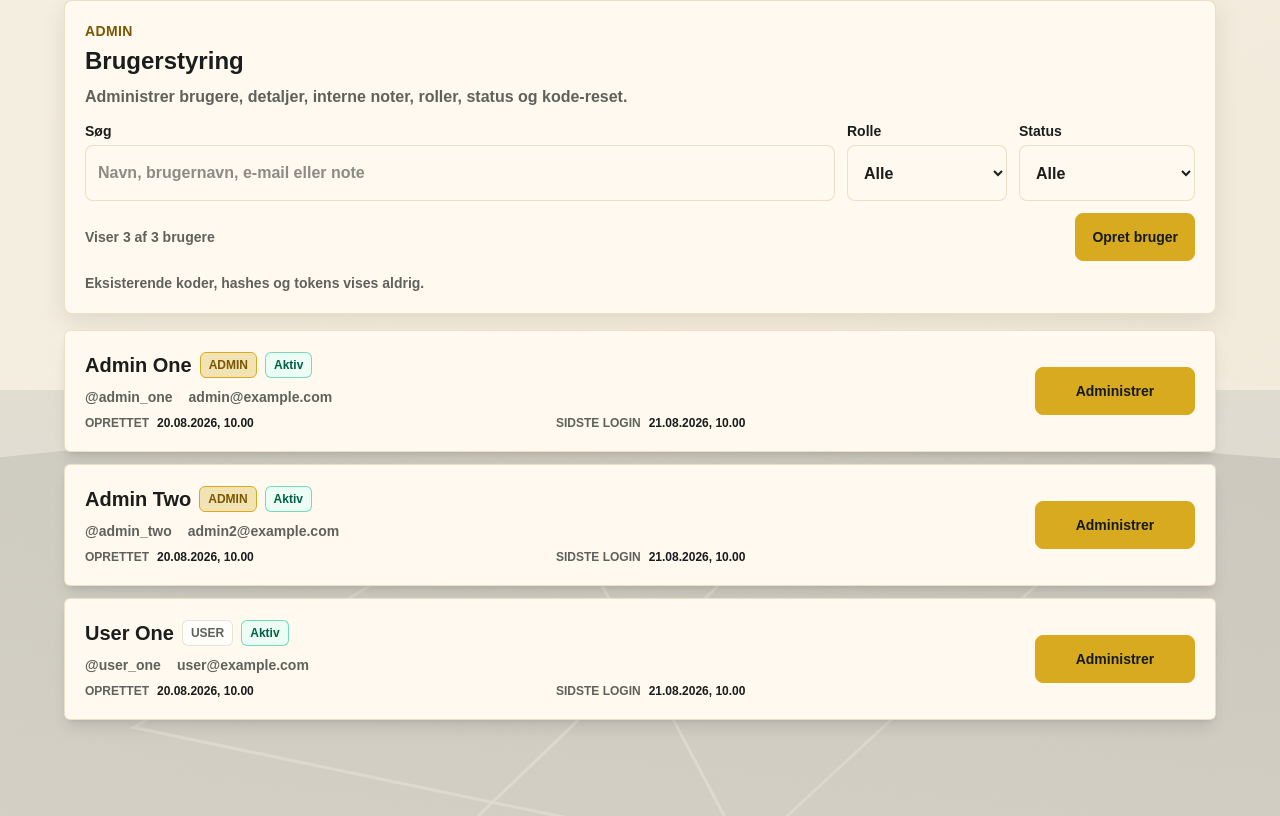
Scenario: STEP 25I-C1-C7 admin user management UI › opens Create User and submits username and code without email
Click the button "Opret bruger": (1135, 237) x1=1075 y1=213 x2=1195 y2=261
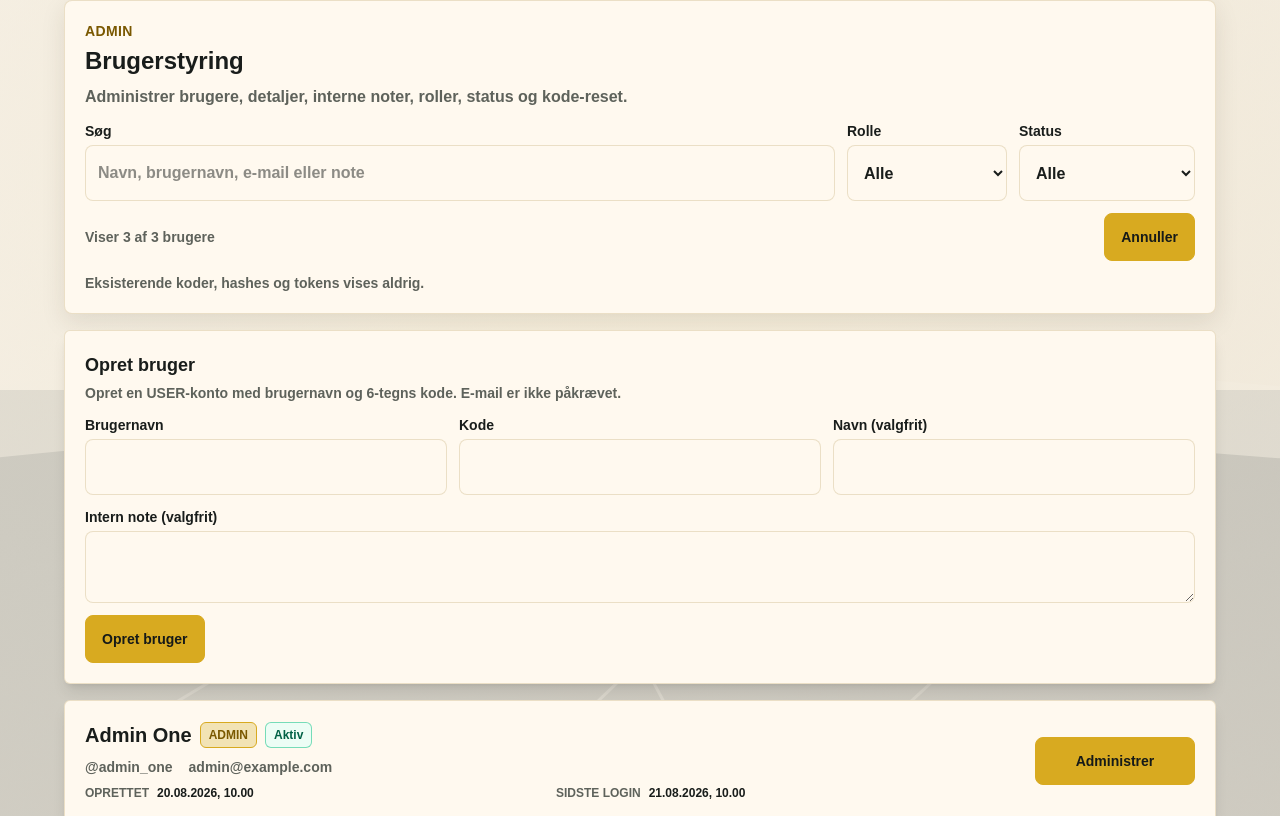
expect the text "Opret en USER-konto med brugernavn og 6-tegns kode. E-mail er ikke påkrævet." is shown: met, box x1=85 y1=385 x2=621 y2=401
In the field labelled "Brugernavn": (266, 467) x1=85 y1=439 x2=447 y2=495, type "Desk_Player"
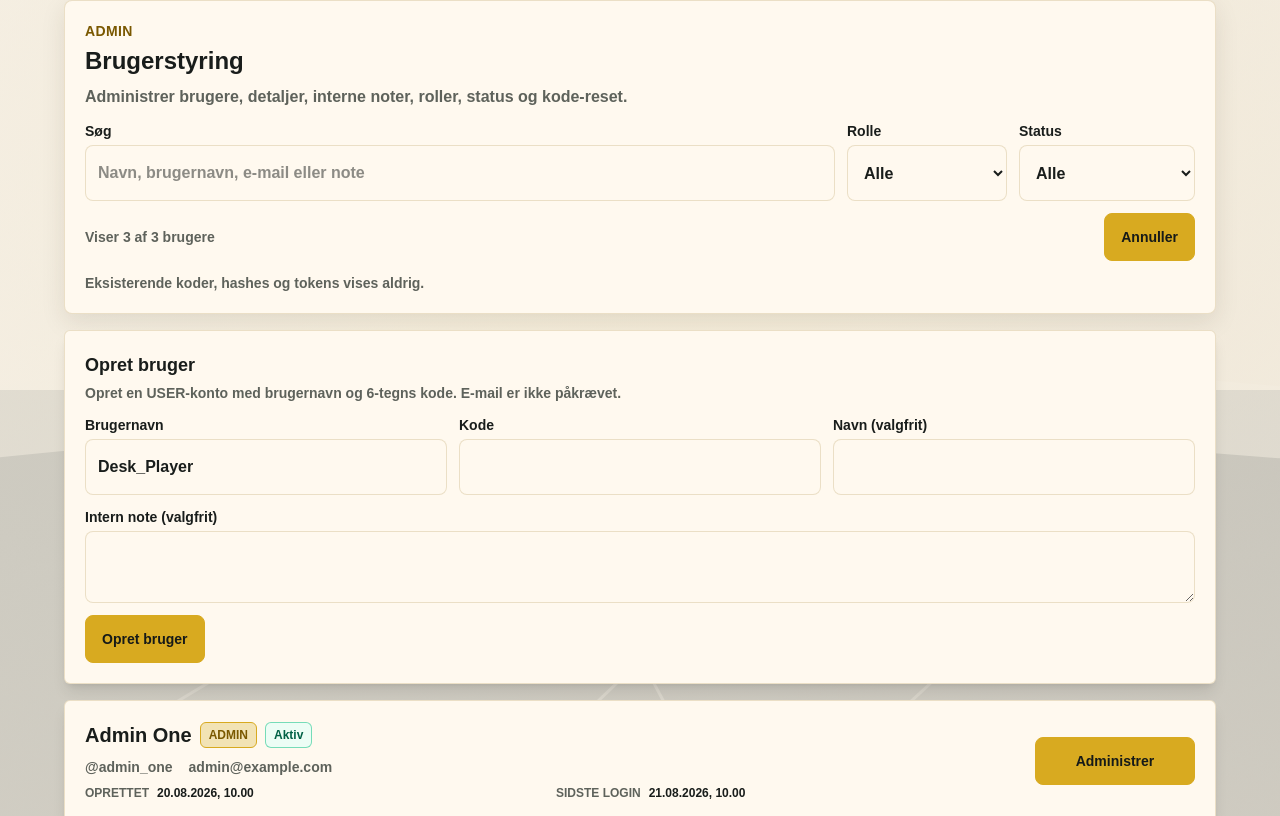
In the field labelled "Kode": (640, 467) x1=459 y1=439 x2=821 y2=495, type "a1b2c3"
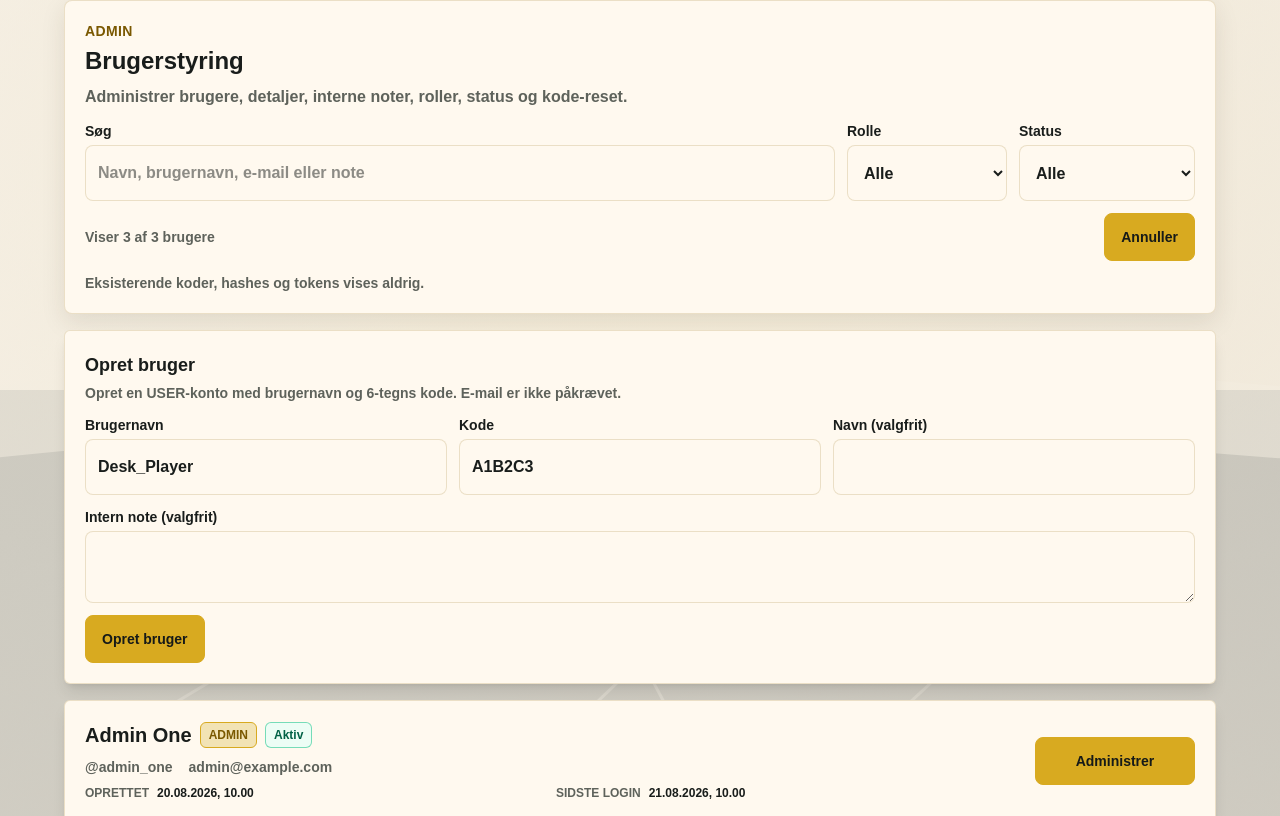
In the field labelled "Navn (valgfrit)": (1014, 467) x1=833 y1=439 x2=1195 y2=495, type "Desk Player"
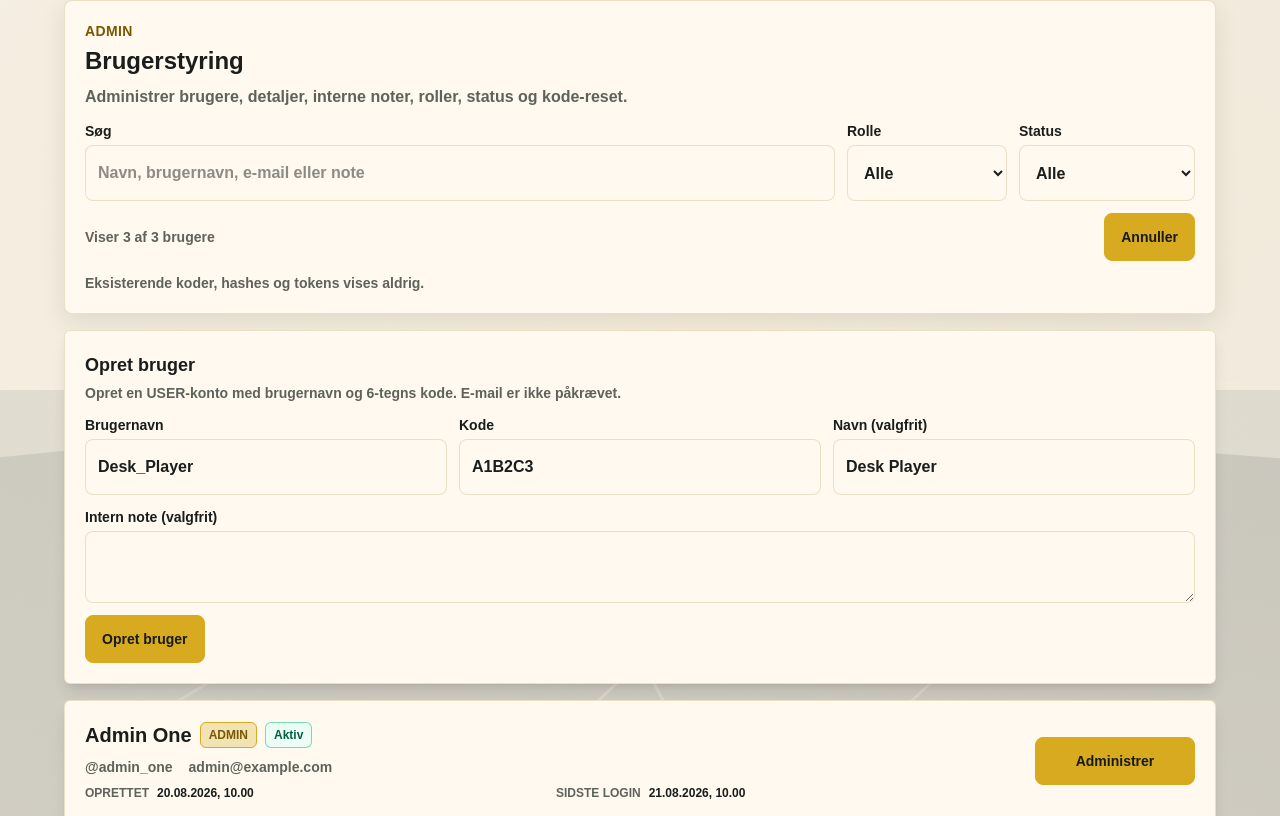
In the text box labelled "Intern note (valgfrit)": (640, 567) x1=85 y1=531 x2=1195 y2=603, type "Front desk"
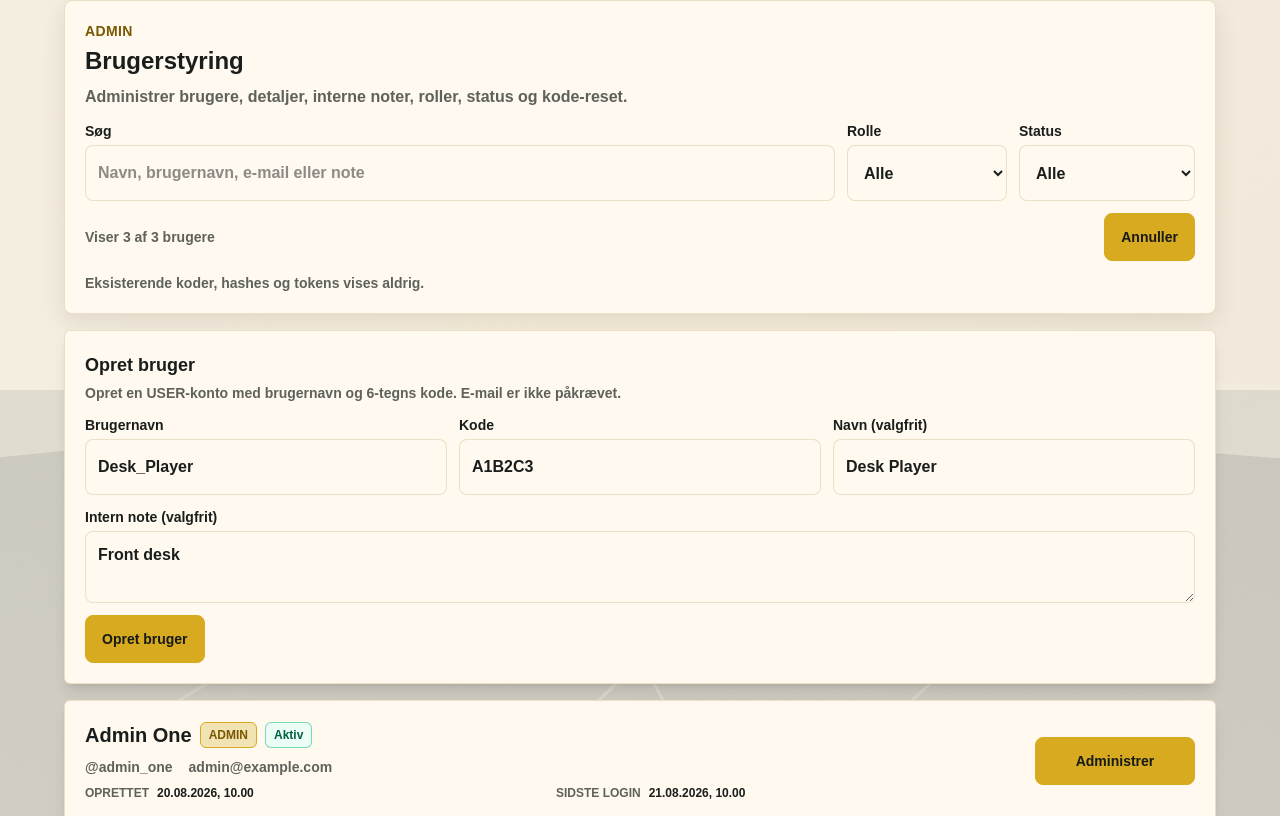
Click the button "Opret bruger": (145, 639) x1=85 y1=615 x2=205 y2=663
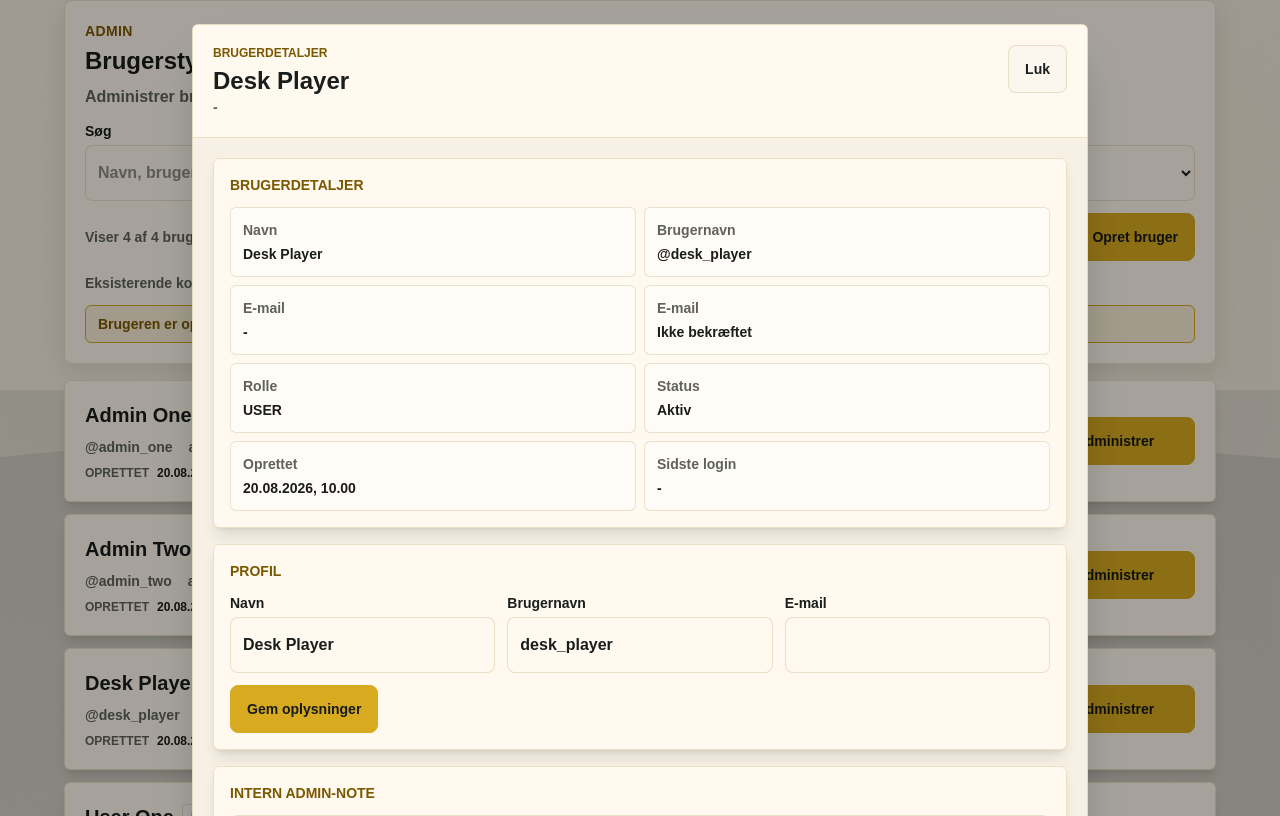
expect the text "Brugeren er oprettet som USER." is shown: met, box x1=85 y1=305 x2=1195 y2=343
expect the heading "Desk Player" below "@admin_two" is shown: met, box x1=85 y1=672 x2=198 y2=694
expect the text "@desk_player" below "@admin_two" is shown: met, box x1=85 y1=707 x2=180 y2=723
